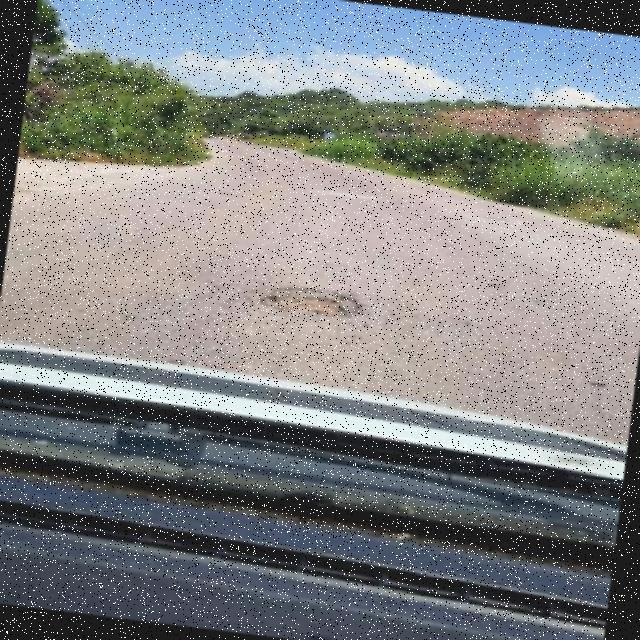Pothole: (258, 286, 363, 322)
